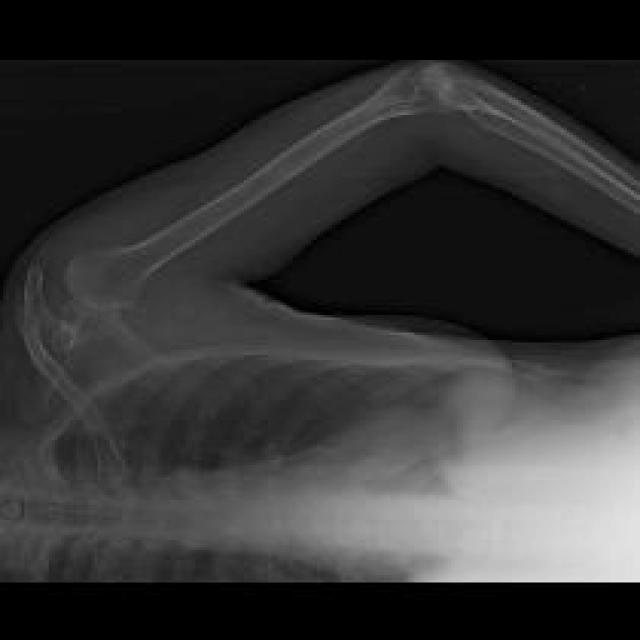normal: (60, 62, 639, 310)
